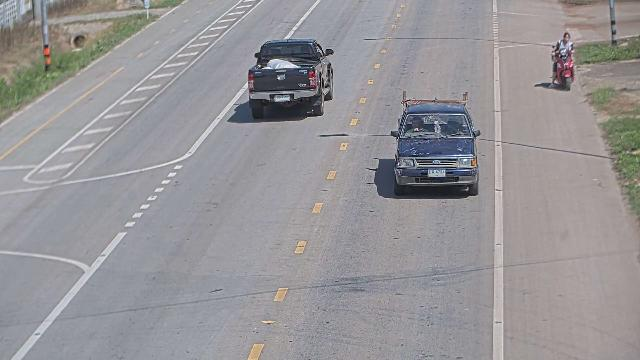pickup-truck: (390, 90, 481, 196), (247, 37, 334, 119)
